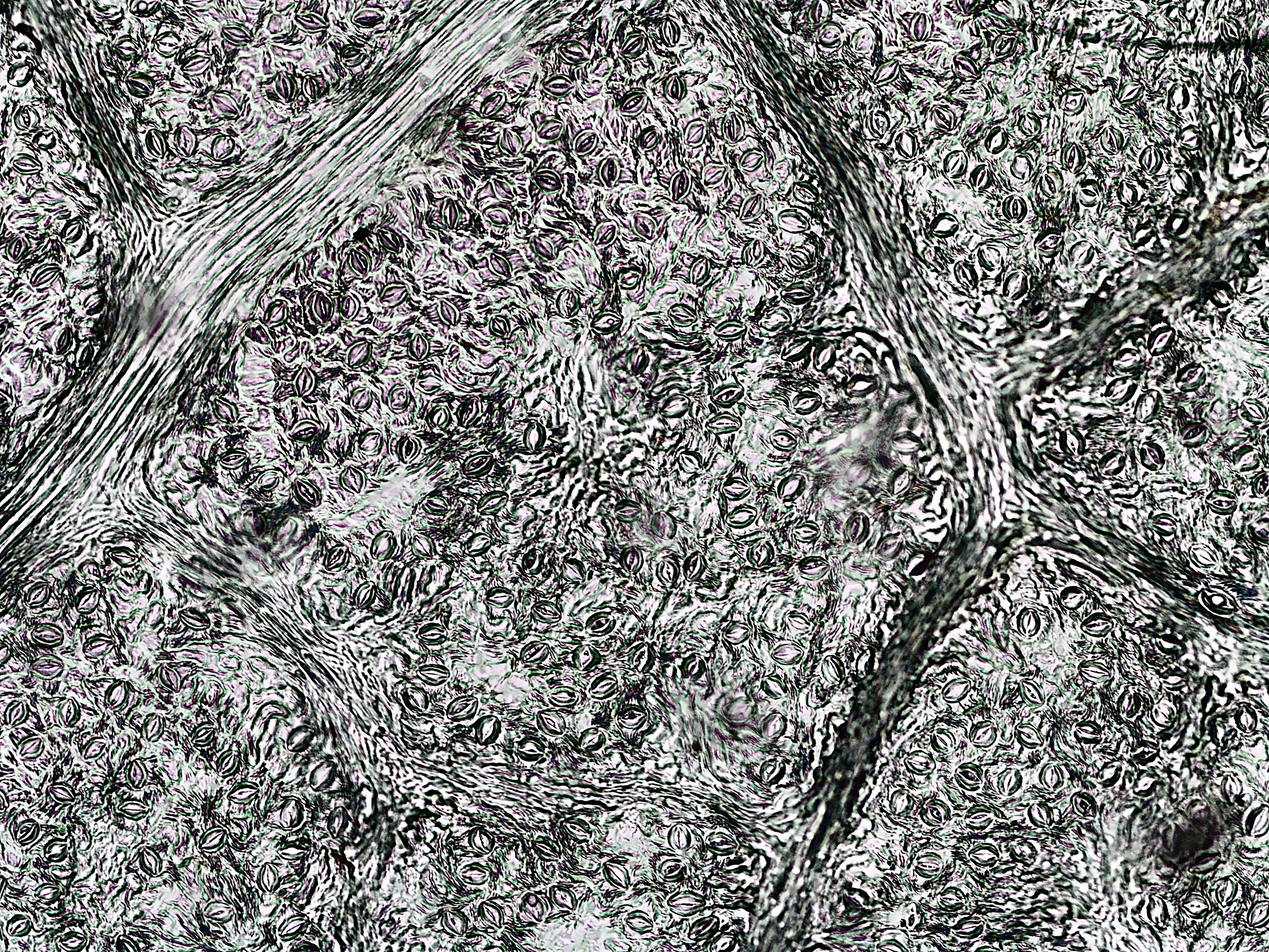stomata: (1200, 582, 1238, 616), (666, 889, 706, 916), (1033, 225, 1064, 259), (1071, 788, 1101, 822), (1202, 486, 1237, 515), (756, 755, 788, 786), (912, 852, 946, 881), (1077, 658, 1114, 684), (922, 798, 953, 829), (28, 262, 61, 291), (539, 72, 574, 99), (457, 860, 492, 887), (797, 554, 832, 581), (1176, 420, 1211, 447), (966, 843, 1001, 870), (284, 723, 316, 752), (277, 798, 305, 831), (31, 654, 65, 681), (889, 786, 916, 820), (288, 417, 324, 442), (344, 339, 375, 368), (293, 477, 322, 508), (603, 860, 632, 891), (478, 898, 506, 930), (627, 639, 653, 673), (104, 679, 129, 714), (467, 825, 496, 855), (664, 822, 693, 852), (633, 210, 660, 242), (202, 899, 234, 926), (748, 538, 775, 570), (1186, 542, 1218, 569), (964, 804, 996, 831), (369, 528, 395, 561), (1081, 612, 1114, 638), (904, 749, 937, 775), (711, 383, 745, 408), (771, 641, 805, 666), (520, 891, 548, 921), (536, 710, 566, 738), (871, 59, 901, 87), (1062, 140, 1086, 175), (1180, 893, 1210, 921), (83, 633, 114, 660), (176, 608, 214, 630), (1038, 167, 1064, 199), (1236, 700, 1259, 736), (1246, 801, 1269, 837), (33, 622, 66, 647), (459, 395, 484, 428), (1136, 35, 1169, 60), (294, 11, 331, 33), (706, 413, 743, 435), (991, 31, 1020, 59), (1148, 326, 1176, 355), (1105, 375, 1133, 404), (1096, 447, 1125, 475), (956, 763, 985, 791), (592, 218, 619, 248), (463, 450, 493, 477), (340, 465, 367, 495), (689, 915, 719, 942), (777, 475, 807, 502), (941, 676, 971, 703), (620, 29, 646, 60), (311, 760, 337, 791), (1004, 269, 1030, 300), (585, 610, 616, 636), (724, 697, 755, 723), (705, 831, 740, 854), (531, 599, 563, 624), (1014, 723, 1046, 748), (600, 153, 622, 189), (376, 283, 409, 307), (292, 365, 316, 398), (560, 817, 593, 841), (417, 623, 450, 647), (571, 644, 599, 672), (782, 208, 810, 236), (338, 40, 367, 67), (211, 92, 240, 119), (549, 884, 576, 913), (447, 694, 476, 721), (863, 108, 890, 137), (953, 54, 982, 81), (821, 656, 848, 685), (1010, 836, 1037, 865), (723, 505, 757, 528), (895, 130, 921, 160), (1135, 392, 1161, 422), (937, 885, 967, 911), (415, 664, 452, 685), (113, 34, 144, 59), (141, 712, 166, 743), (475, 715, 500, 746), (1213, 876, 1238, 907), (439, 197, 461, 232), (616, 707, 651, 729), (352, 578, 376, 610), (780, 338, 812, 362), (11, 153, 44, 176), (276, 915, 309, 938), (909, 10, 932, 43), (846, 513, 869, 546), (619, 88, 646, 116), (479, 89, 506, 117), (0, 697, 27, 725), (669, 302, 697, 329), (813, 70, 841, 97), (779, 283, 815, 304), (650, 512, 677, 540), (127, 69, 153, 98), (442, 907, 468, 936), (661, 391, 690, 417), (530, 836, 560, 861), (1069, 238, 1094, 268), (787, 244, 812, 274), (740, 238, 765, 268), (889, 467, 914, 497), (1244, 515, 1269, 545), (670, 168, 692, 202), (531, 168, 565, 190), (328, 804, 350, 838), (761, 307, 792, 331), (848, 375, 879, 399), (684, 551, 708, 582), (1141, 441, 1165, 472), (221, 22, 253, 45), (723, 112, 746, 144), (311, 291, 334, 323), (57, 697, 80, 729), (140, 844, 163, 876), (591, 312, 623, 335), (523, 421, 546, 453), (227, 781, 259, 804), (199, 826, 226, 853), (761, 713, 788, 740), (1096, 760, 1123, 787), (14, 104, 40, 132), (403, 685, 429, 713), (1058, 89, 1086, 115), (174, 124, 196, 157), (1018, 606, 1040, 639), (156, 31, 181, 60), (535, 117, 564, 142), (324, 544, 349, 573), (814, 22, 843, 47), (1176, 365, 1205, 390), (1040, 762, 1065, 791), (684, 118, 708, 148), (397, 433, 421, 463), (955, 261, 979, 291), (478, 491, 509, 514), (158, 662, 181, 693), (1169, 81, 1192, 112), (891, 430, 922, 453), (1219, 773, 1242, 804), (1189, 851, 1220, 874), (927, 214, 959, 236), (590, 673, 617, 699), (1168, 170, 1194, 197), (1166, 211, 1192, 238), (560, 557, 587, 583), (1020, 680, 1046, 707), (1028, 802, 1054, 829), (577, 726, 605, 751), (1116, 80, 1144, 105), (739, 194, 764, 222), (723, 621, 751, 646), (1232, 445, 1260, 470), (1149, 511, 1177, 536), (1130, 739, 1158, 764), (181, 51, 210, 75), (264, 298, 288, 327), (792, 179, 821, 203), (613, 499, 642, 523), (116, 799, 149, 820), (665, 72, 688, 102), (126, 760, 149, 790), (658, 859, 688, 882), (813, 341, 836, 371), (954, 916, 984, 939), (1147, 892, 1170, 922), (219, 448, 250, 470), (1004, 193, 1026, 224), (1101, 124, 1123, 155), (410, 533, 436, 559), (1074, 718, 1101, 743), (52, 323, 73, 355), (561, 41, 589, 65), (498, 128, 522, 156), (558, 287, 579, 319), (278, 840, 310, 861), (983, 125, 1007, 153), (350, 247, 373, 276), (15, 735, 44, 758), (517, 738, 546, 761), (681, 654, 704, 683), (126, 0, 165, 17), (274, 73, 296, 103), (407, 332, 429, 362), (970, 163, 992, 193), (1118, 688, 1140, 718), (1249, 897, 1269, 930), (144, 126, 165, 157), (1140, 145, 1161, 176), (1118, 178, 1139, 209), (793, 393, 824, 414), (8, 60, 33, 86), (572, 129, 597, 155), (76, 588, 101, 614), (357, 430, 383, 455), (1240, 398, 1265, 424), (1153, 703, 1178, 729), (969, 721, 995, 746), (215, 749, 239, 776), (521, 640, 548, 664), (849, 28, 873, 55), (1060, 586, 1087, 610), (702, 161, 725, 189), (551, 685, 579, 708), (1078, 178, 1101, 206), (793, 521, 821, 544), (520, 547, 543, 575), (1158, 669, 1187, 691), (350, 9, 385, 27), (109, 545, 139, 566), (25, 581, 50, 606), (931, 105, 956, 130), (1018, 112, 1043, 137), (877, 533, 902, 558), (931, 729, 956, 754), (737, 149, 763, 173), (83, 735, 107, 761), (489, 252, 513, 278), (5, 234, 28, 261), (999, 768, 1022, 795), (662, 17, 682, 48), (691, 256, 711, 287), (1063, 426, 1083, 457), (944, 149, 966, 177), (722, 479, 750, 501), (58, 931, 87, 952), (439, 298, 460, 327), (257, 863, 278, 892), (715, 320, 747, 339), (855, 647, 874, 679), (377, 228, 401, 253), (414, 374, 444, 394), (426, 405, 450, 430), (493, 175, 516, 201), (349, 385, 372, 411), (678, 451, 704, 474), (211, 133, 233, 160), (625, 911, 653, 932), (627, 347, 648, 375), (622, 546, 642, 575), (83, 289, 107, 313), (44, 838, 68, 862), (16, 819, 39, 844), (763, 675, 788, 698), (1011, 153, 1033, 179), (638, 125, 659, 152), (338, 292, 359, 319), (48, 783, 75, 804), (657, 558, 678, 585), (1113, 347, 1140, 368), (32, 126, 56, 149), (214, 398, 237, 422), (62, 218, 84, 243), (1157, 632, 1182, 654), (466, 534, 492, 555), (785, 610, 811, 631), (1208, 283, 1234, 304), (422, 495, 449, 515), (34, 883, 62, 902), (1133, 772, 1156, 795), (489, 315, 513, 337), (257, 469, 282, 490), (486, 207, 512, 227), (773, 429, 799, 449), (390, 385, 409, 412), (7, 915, 30, 937), (533, 237, 556, 259), (617, 267, 639, 290), (189, 723, 213, 744), (487, 589, 515, 607), (980, 245, 1000, 270), (75, 341, 94, 367), (1251, 471, 1269, 498), (712, 933, 737, 952), (1222, 18, 1241, 43), (1179, 124, 1198, 149), (809, 0, 830, 22), (906, 553, 927, 575), (115, 932, 138, 952), (0, 586, 19, 610), (1231, 70, 1246, 100), (304, 73, 318, 103), (956, 0, 981, 16), (843, 0, 873, 12), (1258, 93, 1269, 122), (0, 642, 11, 666)
